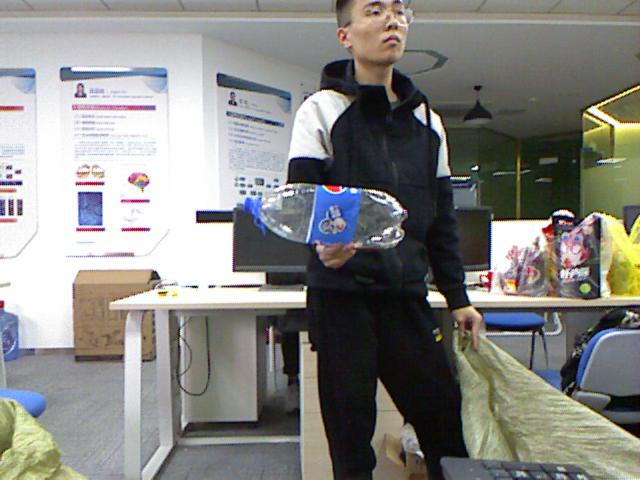cardboard paper: (74, 270, 156, 359)
plastic: (243, 182, 405, 247)
